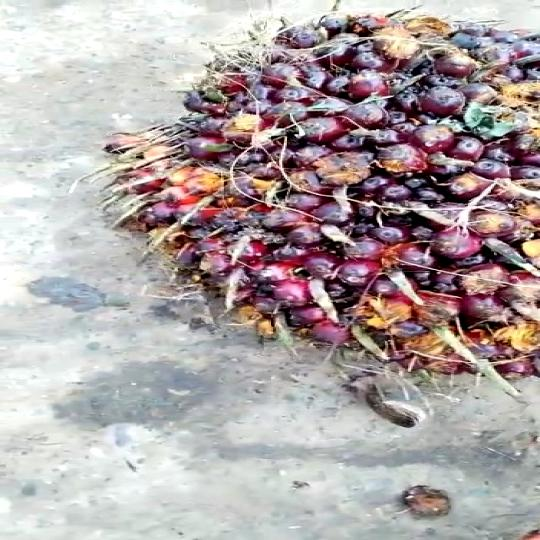kurang masak: (61, 15, 540, 410)
